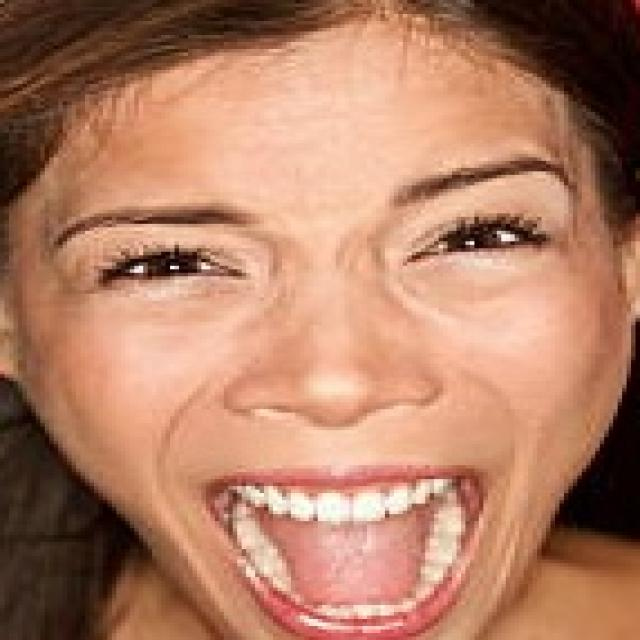Anxiety: (9, 20, 629, 637)
